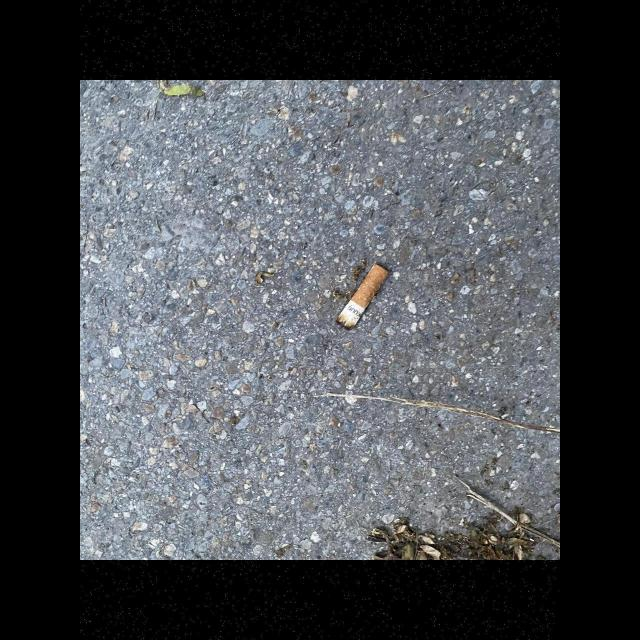cigarette: (335, 264, 389, 330)
